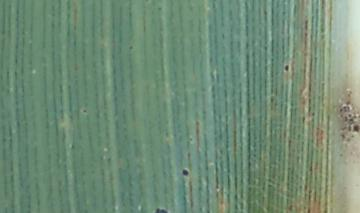tarspot: (193, 119, 202, 137), (286, 138, 294, 151), (180, 168, 190, 177), (153, 207, 168, 213), (307, 188, 313, 203), (185, 150, 192, 161), (155, 5, 164, 13), (352, 124, 360, 133), (344, 99, 353, 107), (344, 135, 352, 144), (49, 11, 57, 20), (301, 115, 307, 126), (303, 19, 309, 30), (338, 133, 346, 141), (304, 205, 312, 213), (283, 63, 290, 72), (127, 43, 134, 52), (346, 123, 352, 132), (281, 9, 287, 18), (269, 95, 274, 105), (348, 117, 355, 124), (81, 108, 88, 114), (309, 111, 316, 117), (346, 112, 353, 118), (188, 136, 194, 142), (338, 106, 342, 114)
